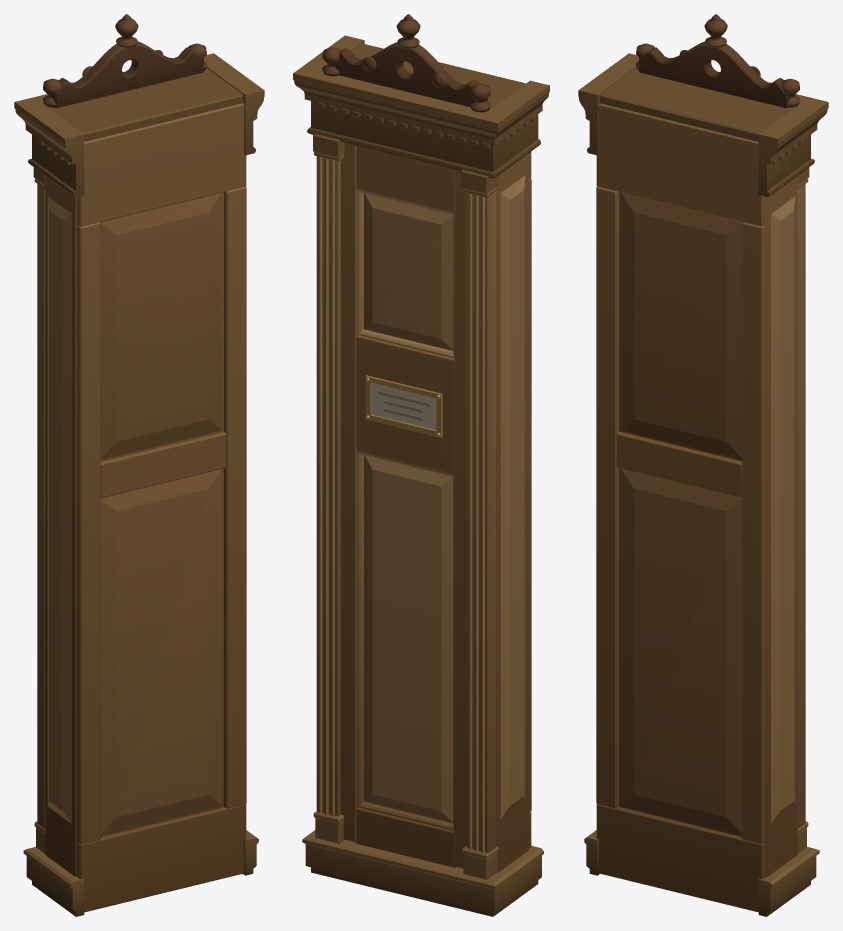
File: stack-shelf-end.glb
3 renders of one model, left to right at view 1: azimuth 30°, elevation 25°; view 2: azimuth 150°, elevation 25°; view 3: azimuth 330°, elevation 25°, orthographic. The views are drawn at different scales.
Visible parts, largest first — view 1: stack_shelf_end; view 2: stack_shelf_end; view 3: stack_shelf_end.
Part boxes in pixels (box(x1,y1,x2,y2)): stack_shelf_end: box(14, 14, 264, 916); stack_shelf_end: box(293, 14, 549, 916); stack_shelf_end: box(578, 14, 828, 916).
Bounding box in the file's own units: 0.59 × 2.41 × 0.259.
